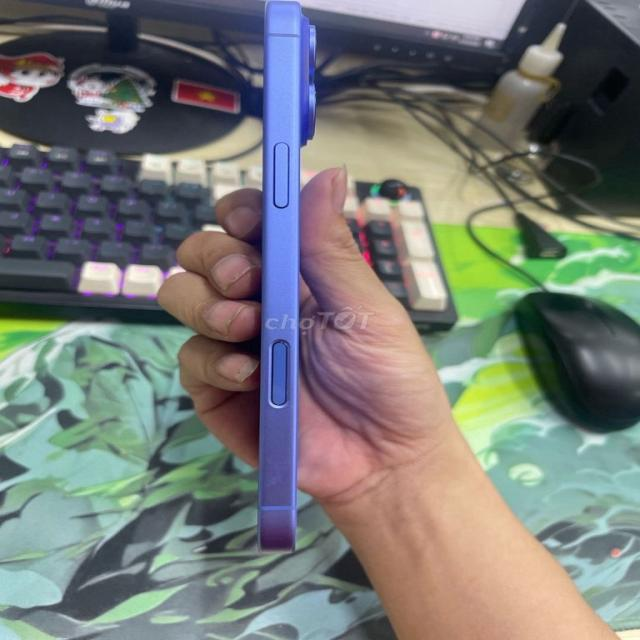scratch: (228, 0, 334, 557), (252, 450, 306, 499)
